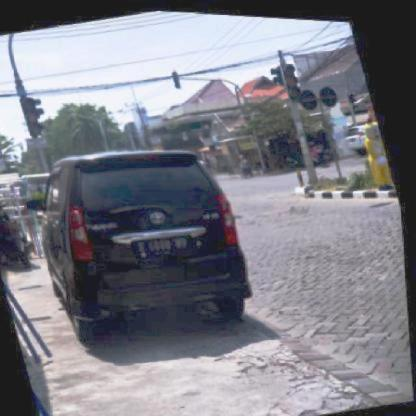Traffic Light -Yellow-: (23, 94, 49, 138), (285, 58, 309, 98)
